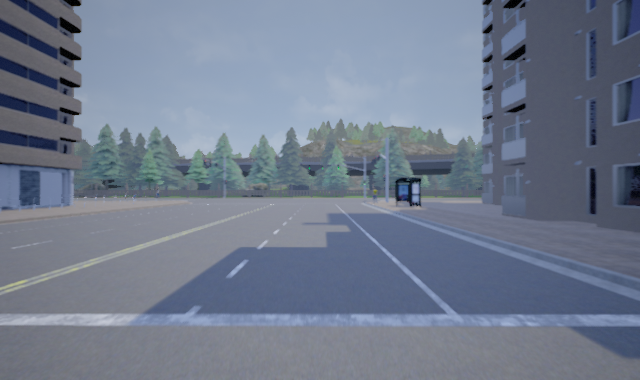pedestrian: (371, 186, 378, 203)
